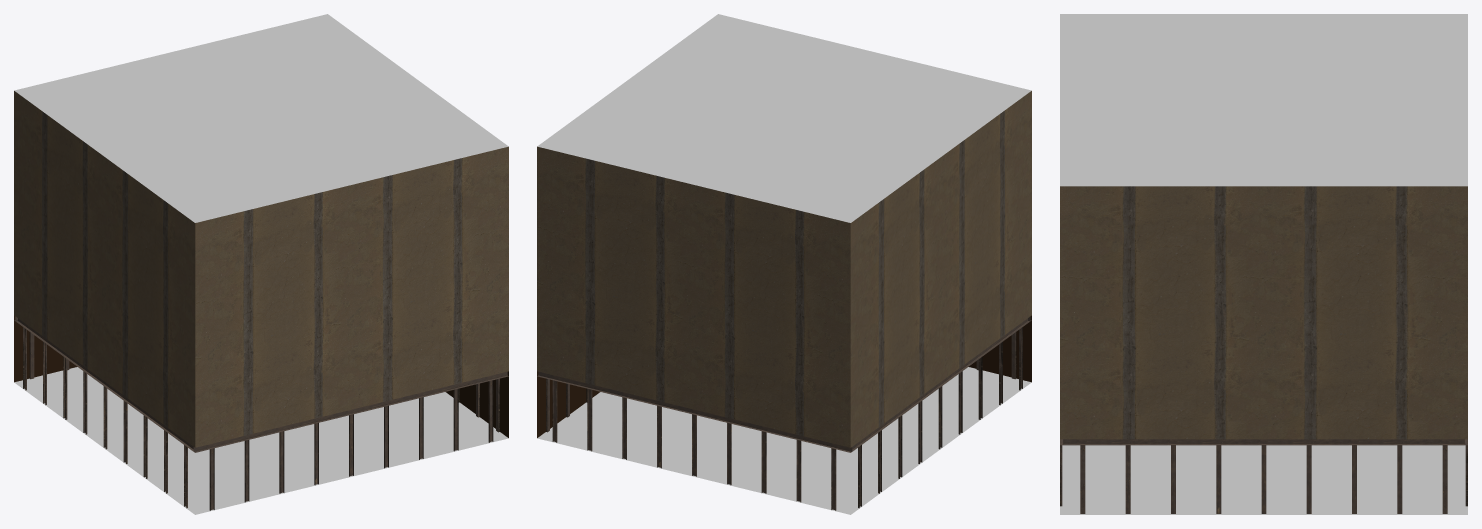
File: room_fc.obj
3 renders of one model, left to right at view 1: azimuth 30°, elevation 25°; view 2: azimuth 150°, elevation 25°; view 3: azimuth 270°, elevation 25°, orthographic. The views are drawn at different scales.
Parts seen in each view (by area): view 1: room; view 2: room; view 3: room.
Boxes of the visible parts, x1=… form: room: x1=14, y1=14, x2=508, y2=514; room: x1=537, y1=14, x2=1031, y2=514; room: x1=1060, y1=14, x2=1467, y2=514.
Size of the model in its own units: 4.5 by 4 by 4.5.
5 materials, 2 textured.
